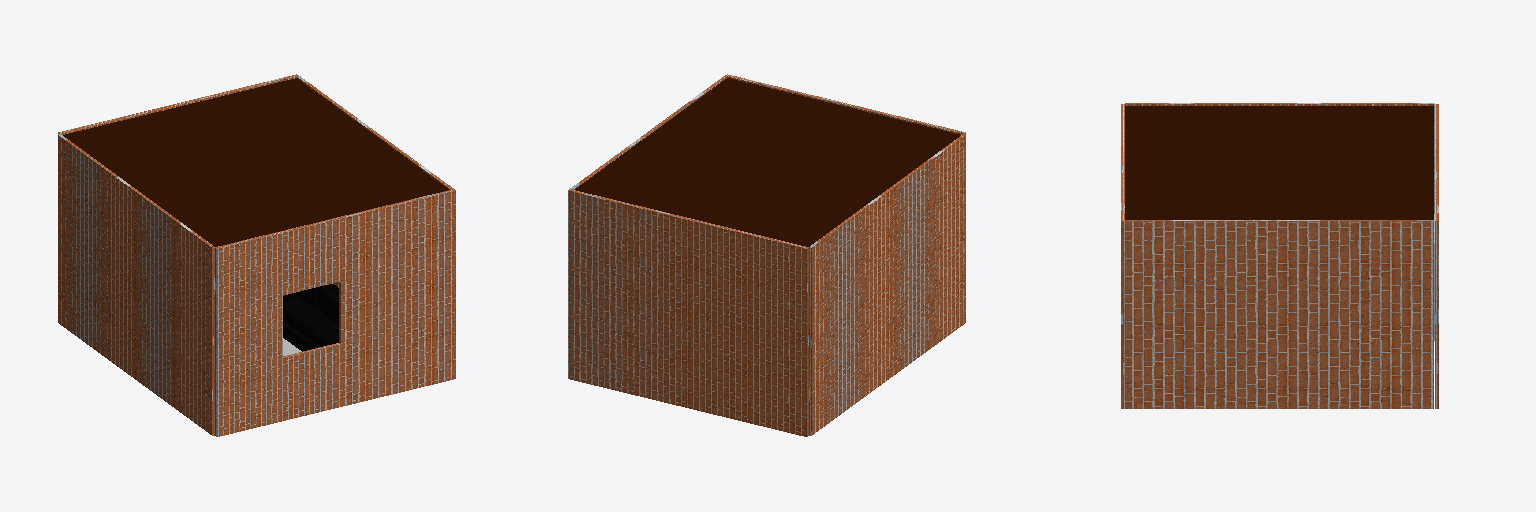
3 renders of one model, left to right at view 1: azimuth 30°, elevation 25°; view 2: azimuth 150°, elevation 25°; view 3: azimuth 270°, elevation 25°, orthographic.
Visible parts, largest first — view 1: WalPainting_Cube, Ceiling_Cube.005, WallBehingTV_Cube.004, WallDoor_Cube.006, Plane.003, WallBehindCouch_Cube.003, Plane.004_Plane.003, Plane.006_Plane.004, Couch_Plane.002; view 2: WallDoor_Cube.006, Ceiling_Cube.005, WallBehingTV_Cube.004, WalPainting_Cube, WallBehindCouch_Cube.003; view 3: WallBehindCouch_Cube.003, Ceiling_Cube.005, WalPainting_Cube, WallDoor_Cube.006, WallBehingTV_Cube.004.
Boxes of the visible parts, box(x1,y1,x2,y2) form: WalPainting_Cube: box(215, 189, 455, 436); Ceiling_Cube.005: box(63, 78, 448, 246); WallBehingTV_Cube.004: box(58, 134, 214, 435); WallDoor_Cube.006: box(58, 74, 298, 134); Plane.003: box(296, 314, 338, 343); WallBehindCouch_Cube.003: box(297, 76, 453, 287); Plane.004_Plane.003: box(283, 298, 321, 328); Plane.006_Plane.004: box(318, 286, 338, 324); Couch_Plane.002: box(283, 284, 338, 351); WallDoor_Cube.006: box(568, 189, 808, 436); Ceiling_Cube.005: box(575, 78, 960, 246); WallBehingTV_Cube.004: box(809, 134, 965, 435); WalPainting_Cube: box(725, 74, 965, 134); WallBehindCouch_Cube.003: box(570, 76, 726, 189); WallBehindCouch_Cube.003: box(1125, 220, 1433, 408); Ceiling_Cube.005: box(1125, 106, 1433, 219); WalPainting_Cube: box(1121, 104, 1124, 408); WallDoor_Cube.006: box(1435, 104, 1438, 408); WallBehingTV_Cube.004: box(1125, 103, 1434, 213).
Size of the model in its own units: 11.92 by 8.86 by 13.56.
11 materials, 1 textured.